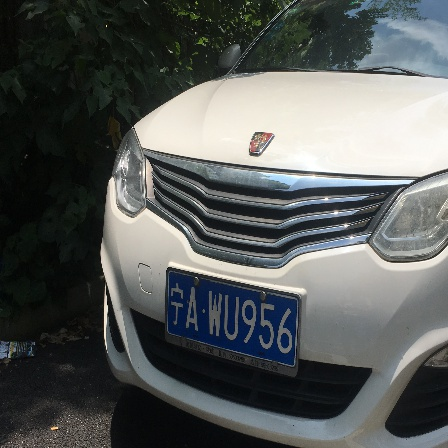plate: (165, 267, 305, 374)
